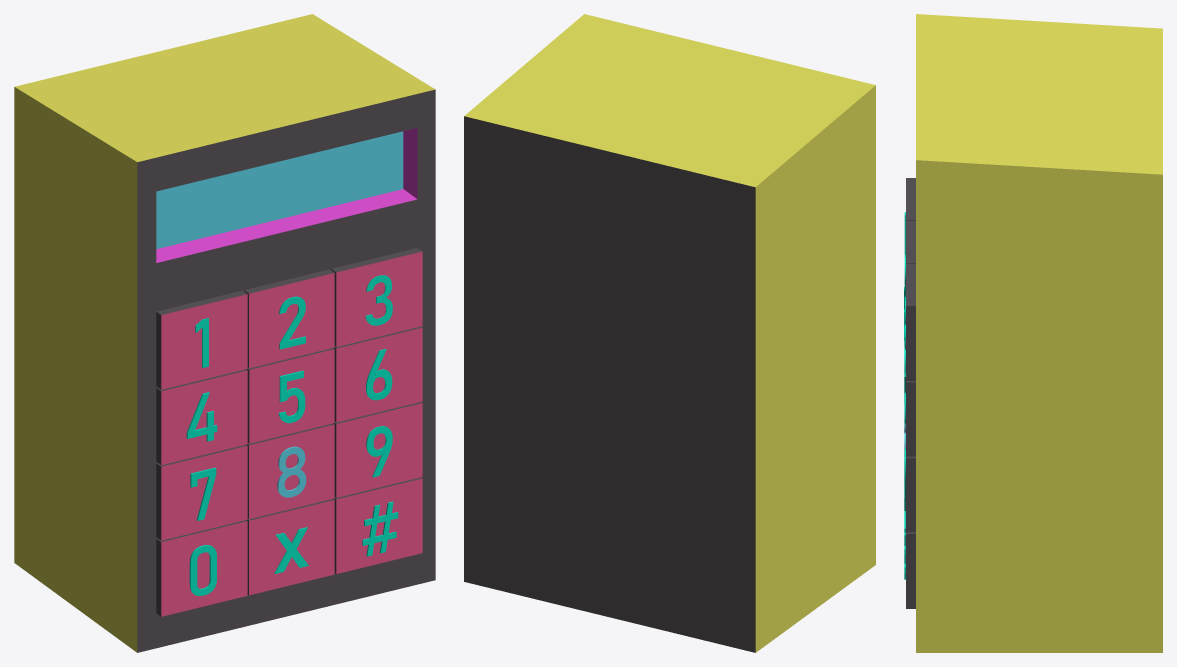
File: electronicLock.fbx
The picture shows the model from 3 angles, left to right: view 1: azimuth 30°, elevation 25°; view 2: azimuth 150°, elevation 25°; view 3: azimuth 270°, elevation 25°; orthographic projection. The views are drawn at different scales.
Parts seen in each view (by area): view 1: Cube, Cube.001, Cube.003, Cube.010, Cube.002, Cube.004, Cube.007, Cube.012, Cube.006, Cube.009, Cube.011, Cube.008 (+1 smaller); view 2: Cube; view 3: Cube, Cube.003, Cube.012, Cube.009, Cube.006, Cube.002, Cube.001.
Boxes of the visible parts, bbox=[...] form: Cube: bbox=[14, 14, 435, 652]; Cube.001: bbox=[156, 290, 247, 389]; Cube.003: bbox=[331, 248, 422, 346]; Cube.010: bbox=[156, 520, 247, 616]; Cube.002: bbox=[244, 269, 334, 368]; Cube.004: bbox=[156, 369, 247, 465]; Cube.007: bbox=[156, 444, 247, 540]; Cube.012: bbox=[333, 477, 422, 573]; Cube.006: bbox=[333, 326, 422, 422]; Cube.009: bbox=[333, 402, 422, 497]; Cube.011: bbox=[246, 499, 334, 595]; Cube.008: bbox=[246, 423, 334, 519]; Cube: bbox=[464, 14, 875, 652]; Cube: bbox=[916, 14, 1162, 652]; Cube.003: bbox=[905, 263, 915, 380]; Cube.012: bbox=[904, 526, 915, 608]; Cube.009: bbox=[904, 448, 915, 532]; Cube.006: bbox=[904, 373, 915, 456]; Cube.002: bbox=[904, 221, 915, 311]; Cube.001: bbox=[904, 178, 915, 254].
Bounding box in the file's own units: 7 × 11.01 × 5.24.
